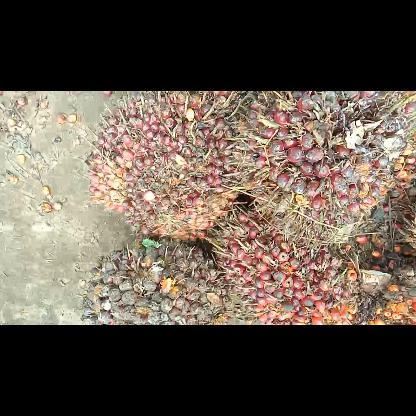Kurang masak: (76, 234, 234, 324)
TBS masak: (235, 91, 414, 247), (84, 97, 252, 243), (211, 206, 367, 324)
